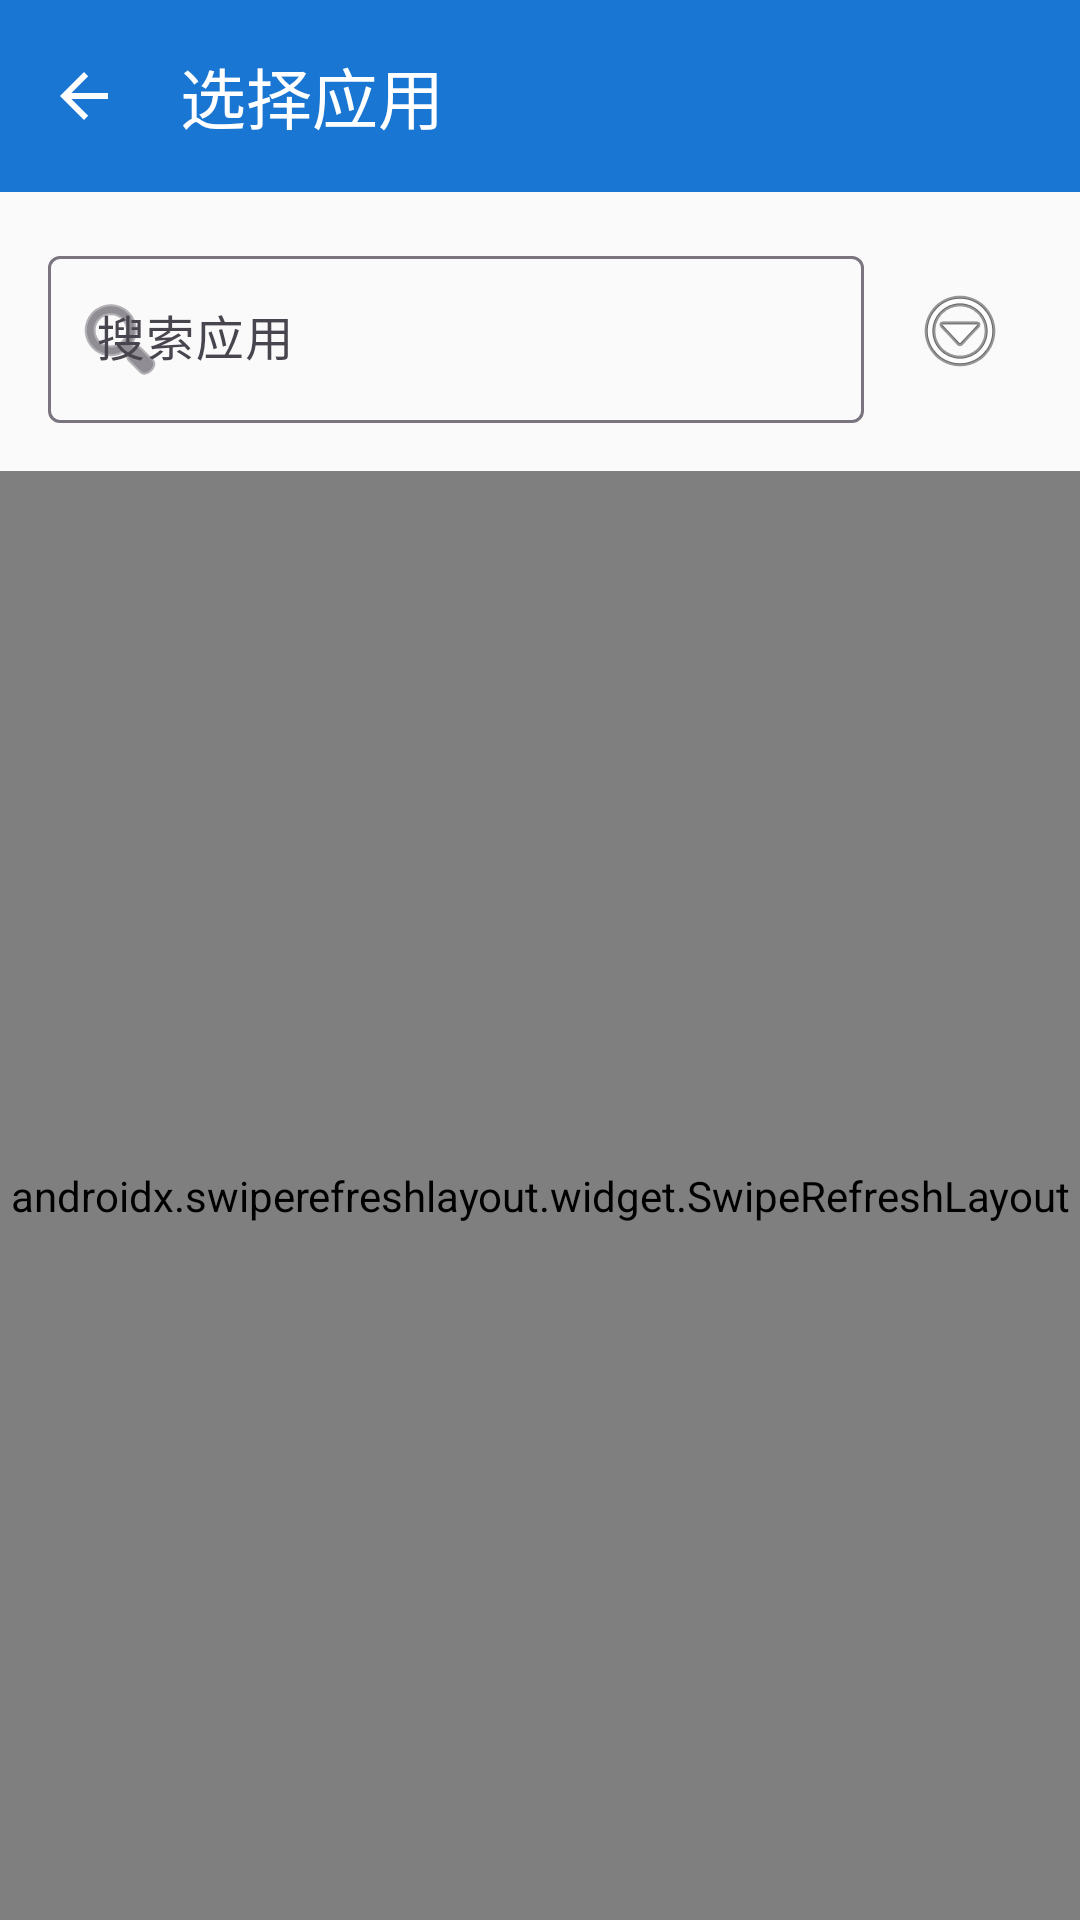

Where icons sit on this 1080px×1920px app screen, as rect(x1, y1, x2, y2):
筛选: rect(924, 295, 996, 367)
